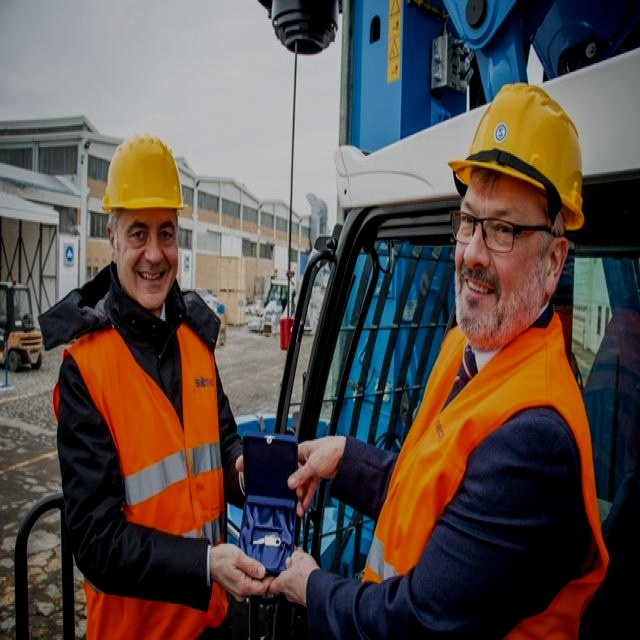Con_Casco: (453, 81, 586, 330), (105, 137, 188, 299)
Con_Chaleco: (64, 318, 236, 630)
